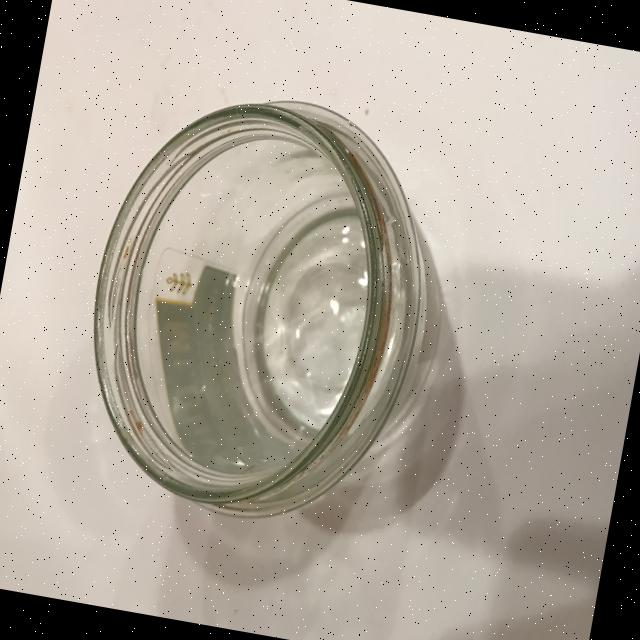glass: (60, 70, 466, 544)
